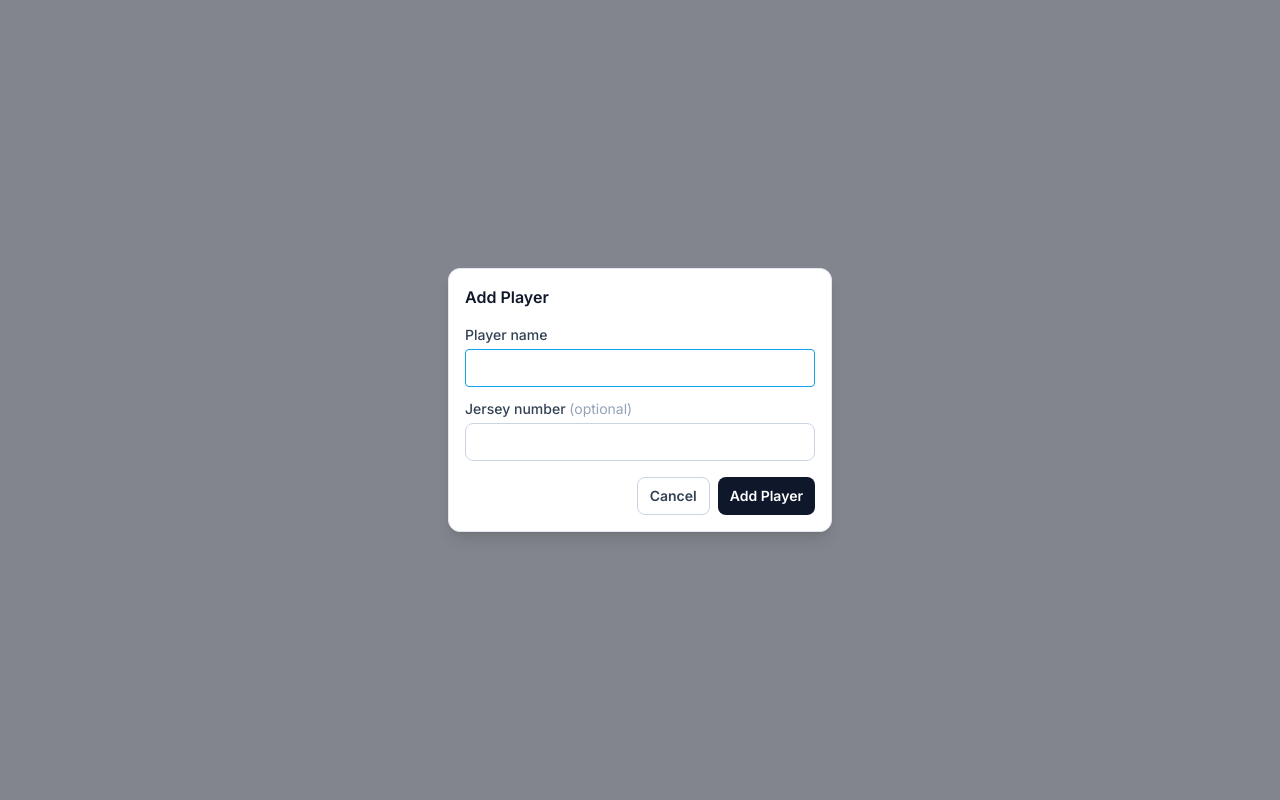
Test case: AddRosterPlayerDialog › shows the server error message verbatim and stays open
Type "Jordan Blake" into the field labelled "Player name" at coordinates (640, 368), box top-left (465, 349), bottom-right (815, 387)
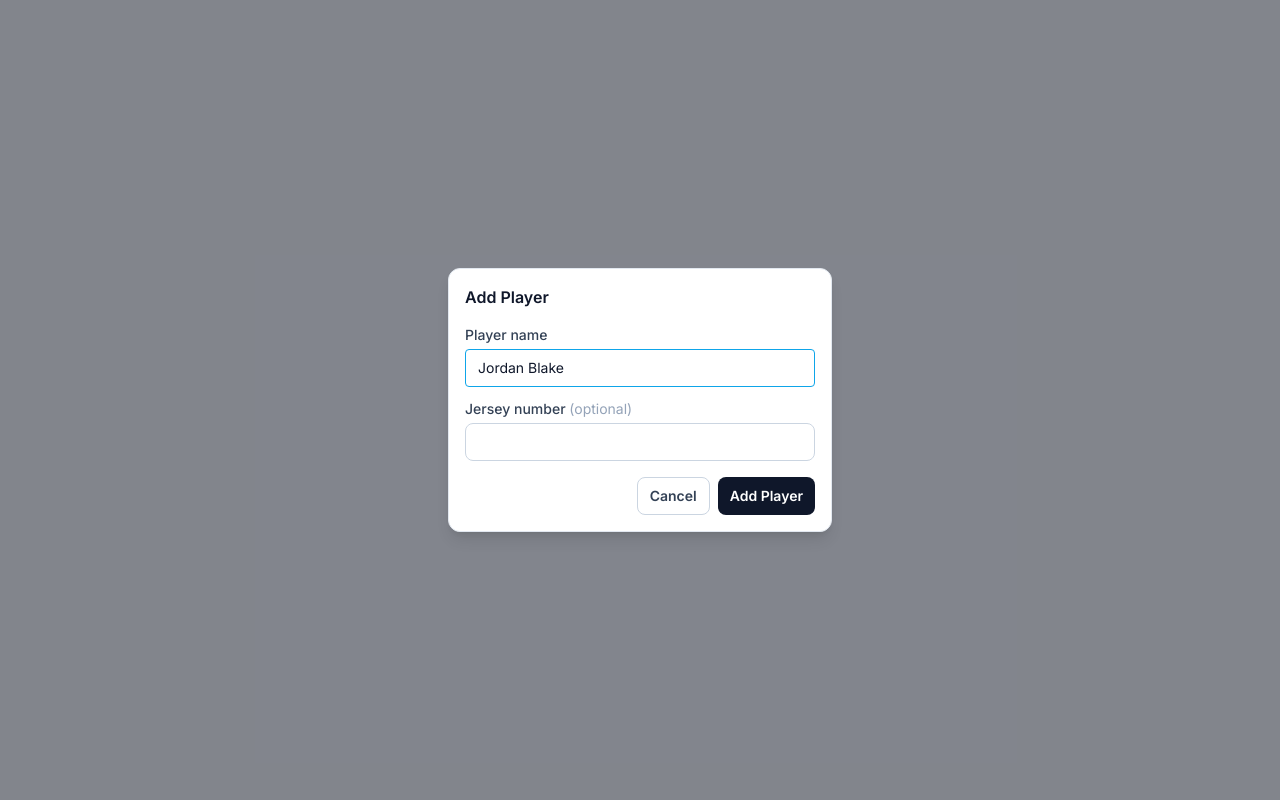
Click the button "Add Player" at coordinates (766, 496), box top-left (718, 477), bottom-right (815, 515)
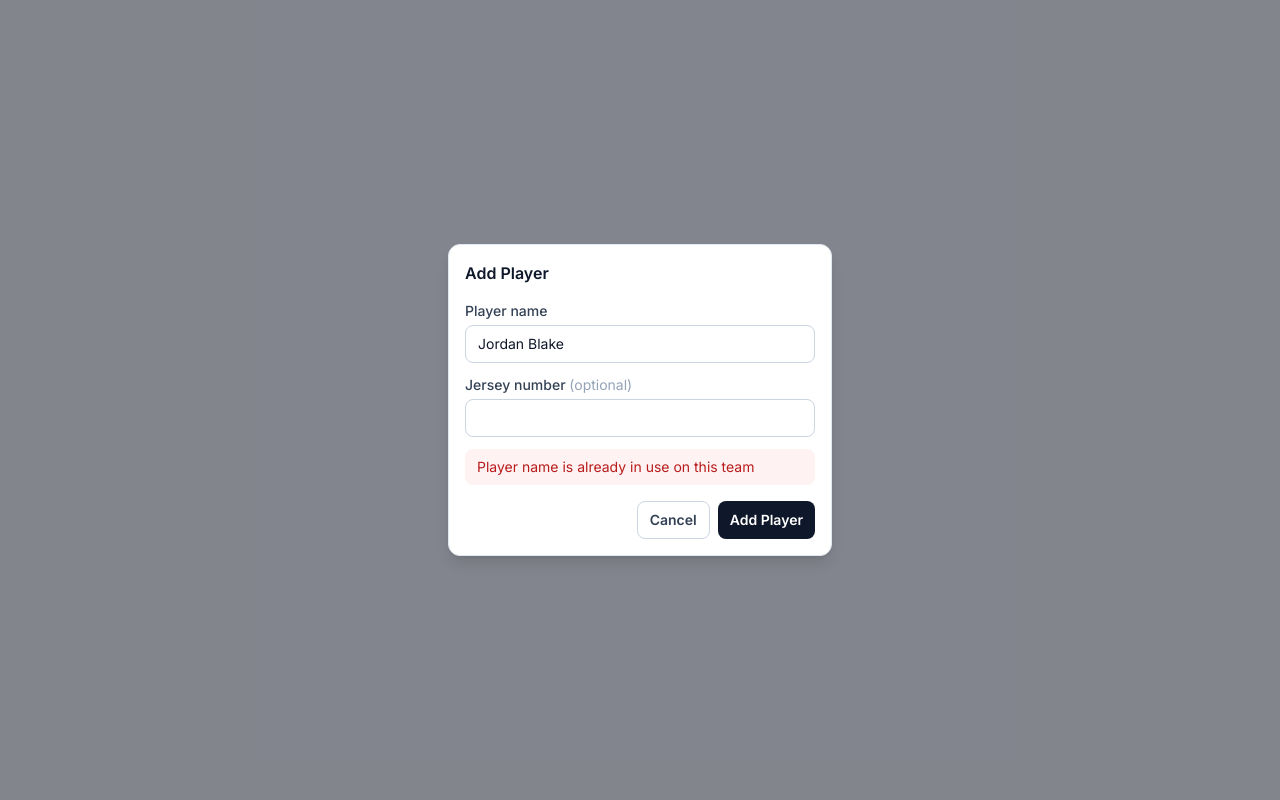
Check: the text "Player name is already in use on this team" is shown, box top-left (465, 449), bottom-right (815, 485)
